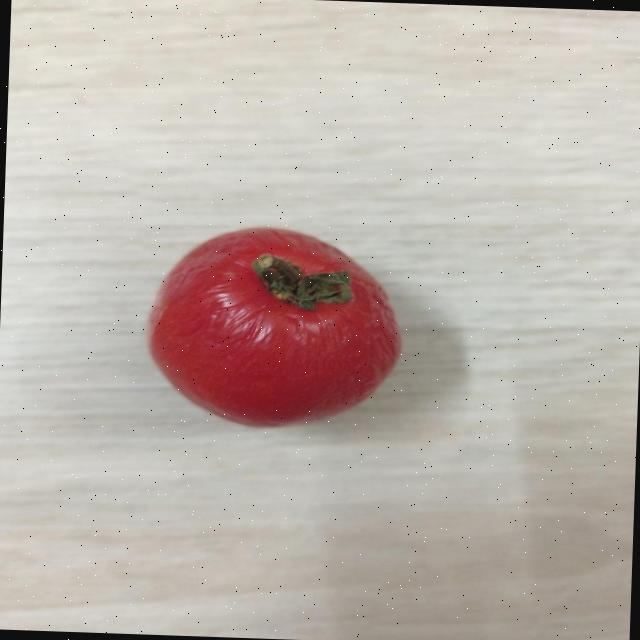overripe: (139, 217, 408, 434)
